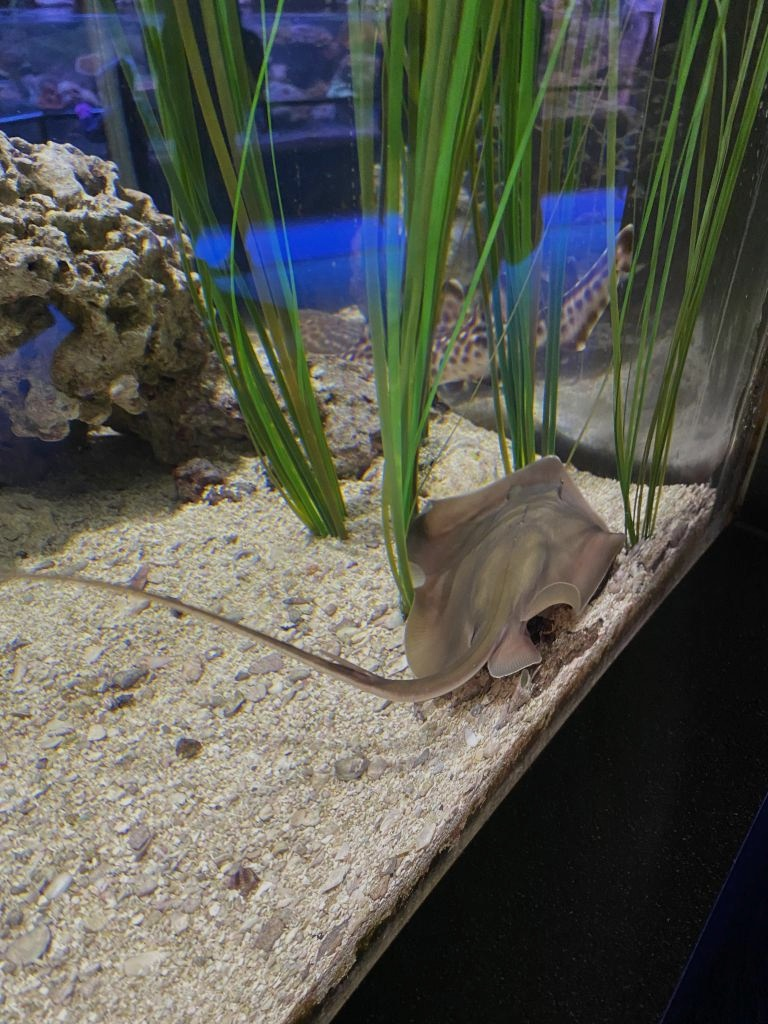stingray: (398, 456, 628, 716)
